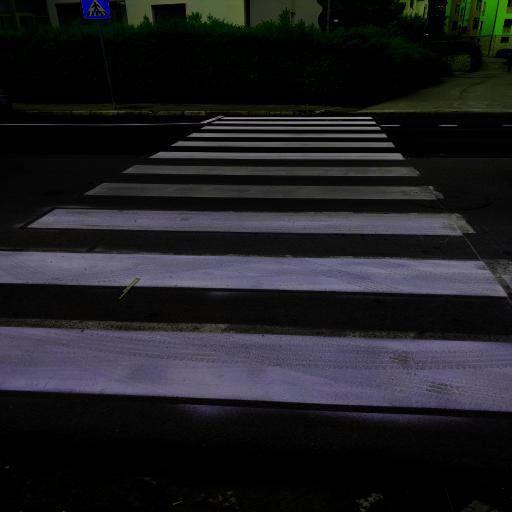crosswalk: (14, 181, 486, 242), (142, 138, 410, 164)
